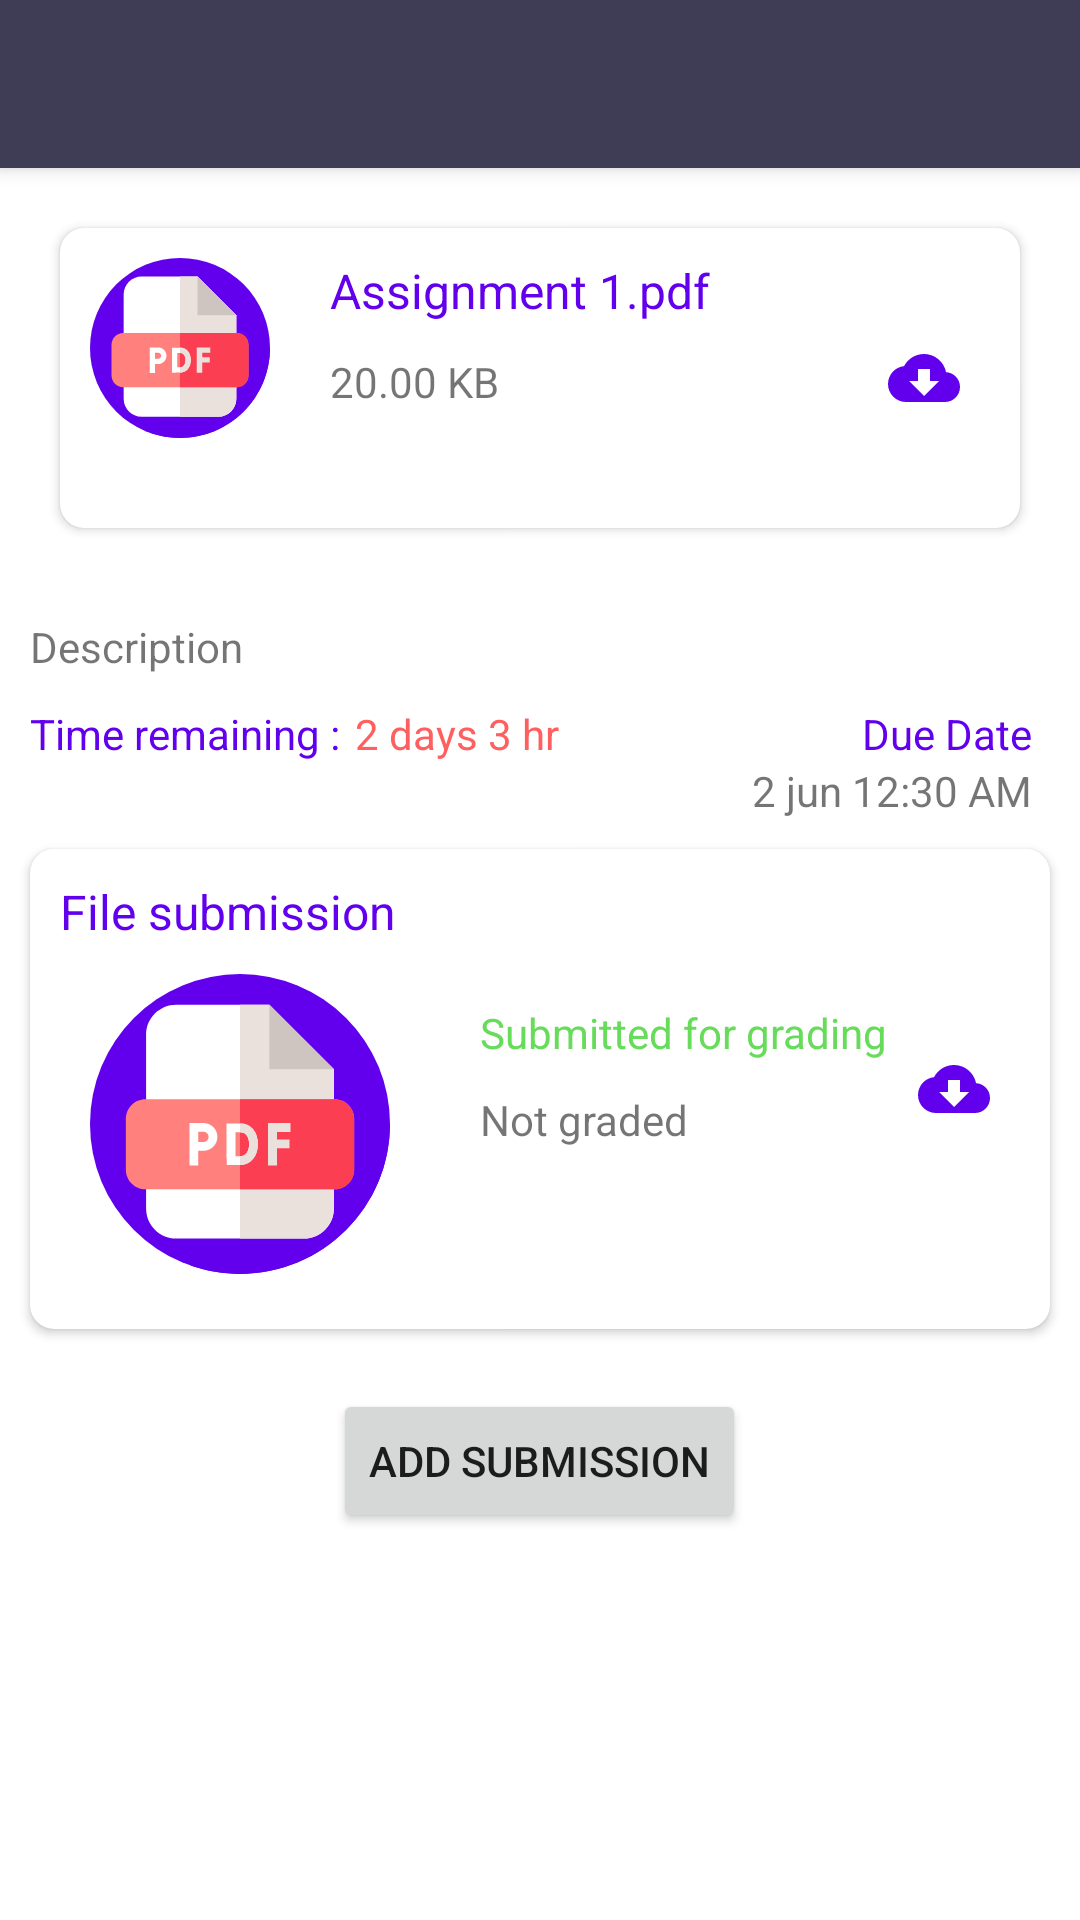

Icons on this 1080*1920 Android screen, each with its box as bbox(x1, y1, x2, y2):
cloud download: bbox(888, 354, 960, 402), bbox(918, 1065, 990, 1113)
